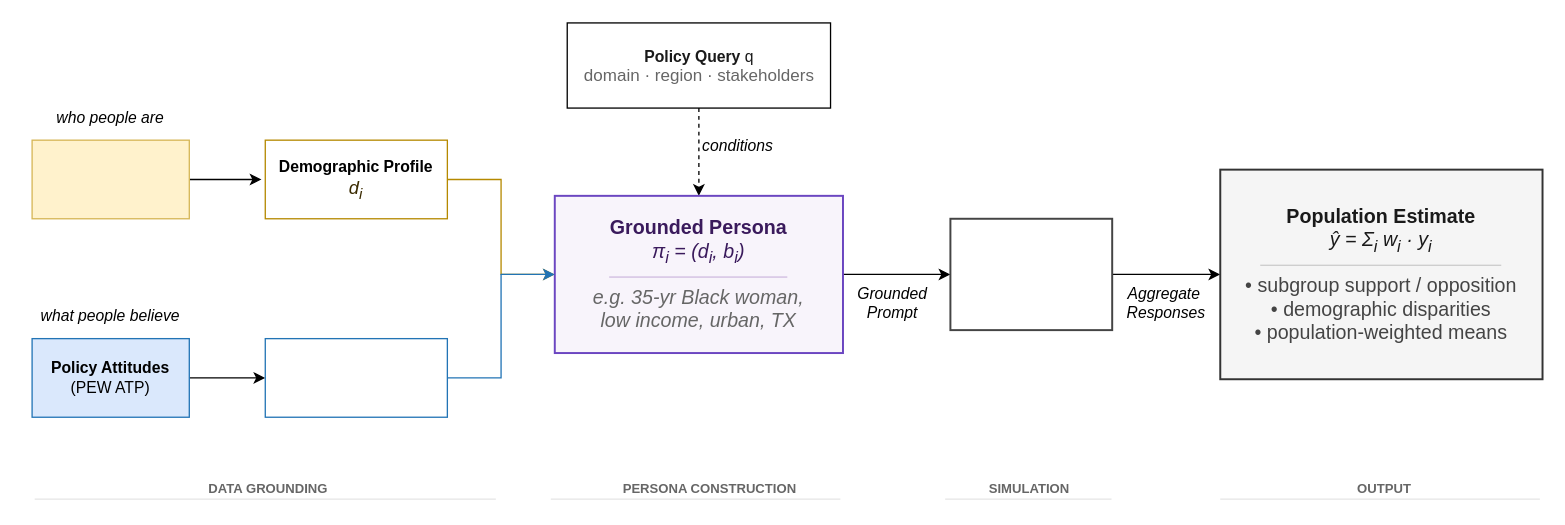
This 1565x525 diagram has some shape labels left out. Here are the shapes that lost their labels. From the top down, the centre of each, then its label:
[110,179]: Census Data (ACS)
[1031,274]: LLM Simulation y i ~ LLM(π i , q)
[355,377]: Behavioral Prior P(y | d, q)
